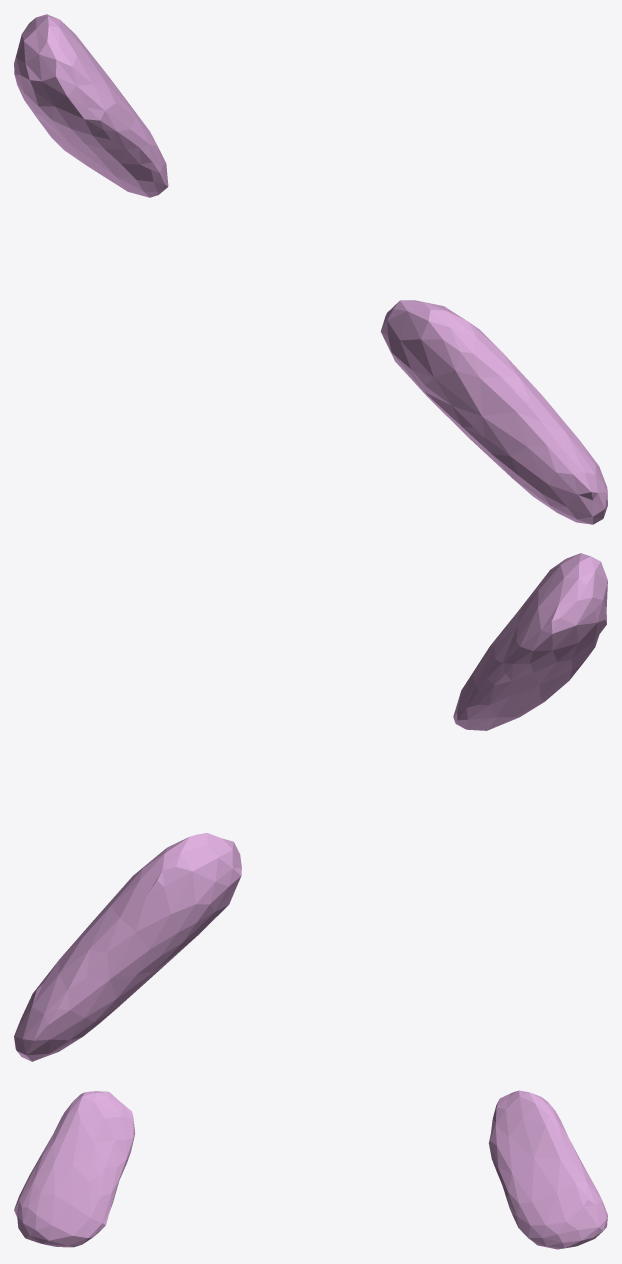
3 renders of one model, top to bottom at view 1: azimuth 30°, elevation 25°; view 2: azimuth 150°, elevation 25°; view 3: azimuth 270°, elevation 25°, orthographic. The views are drawn at different scales.
Parts seen in each view (by area): view 1: 246.obj; view 2: 246.obj; view 3: 246.obj.
Part boxes in pixels (x1=…): 246.obj: x1=14, y1=14, x2=607, y2=524; 246.obj: x1=14, y1=553, x2=607, y2=1061; 246.obj: x1=14, y1=1090, x2=607, y2=1249.
Size of the model in its own units: 542 by 685 by 2939.
